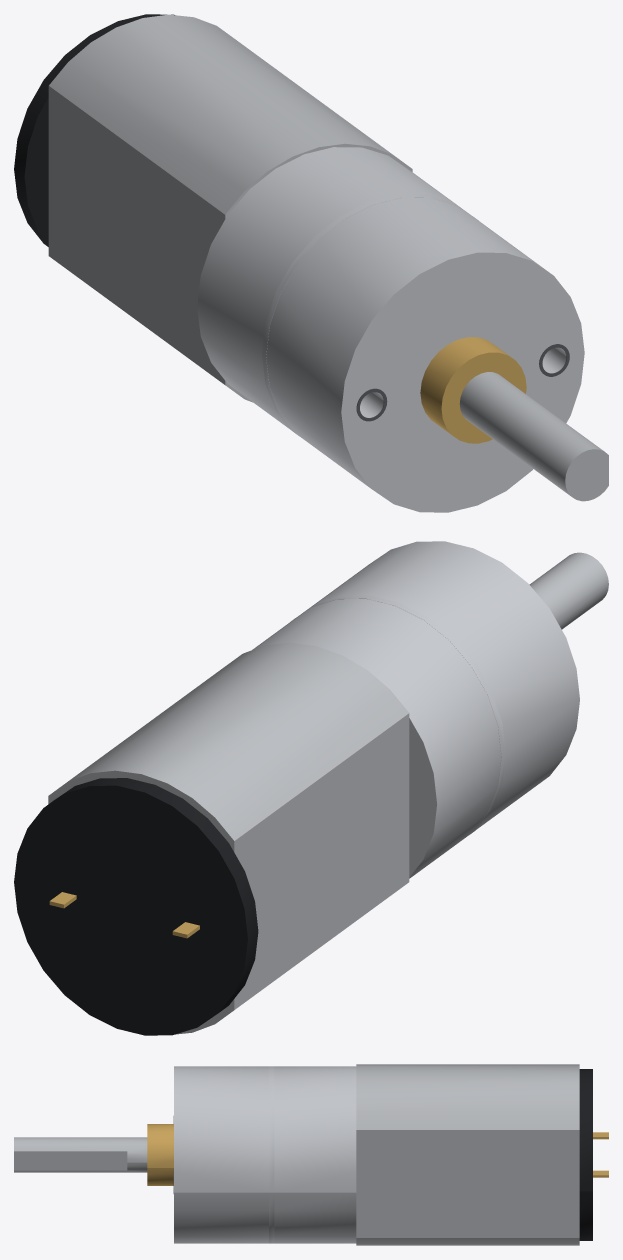
File: pololu-3485-488-1-20d.glb
3 renders of one model, top to bottom at view 1: azimuth 30°, elevation 25°; view 2: azimuth 150°, elevation 25°; view 3: azimuth 270°, elevation 25°, orthographic. The views are drawn at different scales.
Parts seen in each view (by area): view 1: gearbox, body, shaft, bushing, end_cap; view 2: body, gearbox, end_cap, shaft; view 3: body, gearbox, shaft, end_cap, bushing.
Boxes of the visible parts, x1,y1,x2,y2 form: gearbox: (197,147,584,512); body: (48,14,412,402); shaft: (459,372,608,501); bushing: (420,337,526,443); end_cap: (14,14,174,246); body: (48,642,409,1034); gearbox: (252,541,579,878); end_cap: (14,778,258,1035); shaft: (529,552,608,629); body: (356,1064,579,1245); gearbox: (174,1066,356,1243); shaft: (14,1137,147,1172); end_cap: (579,1069,592,1240); bushing: (147,1124,173,1185).
Size of the model in its own units: 20.02 by 20.4 by 66.9.
